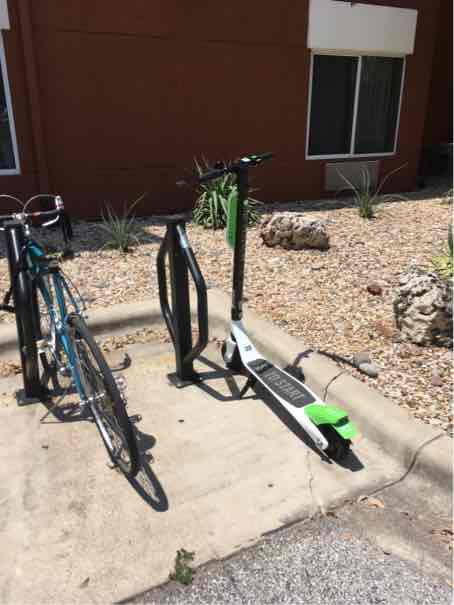scooter: (179, 142, 371, 470)
